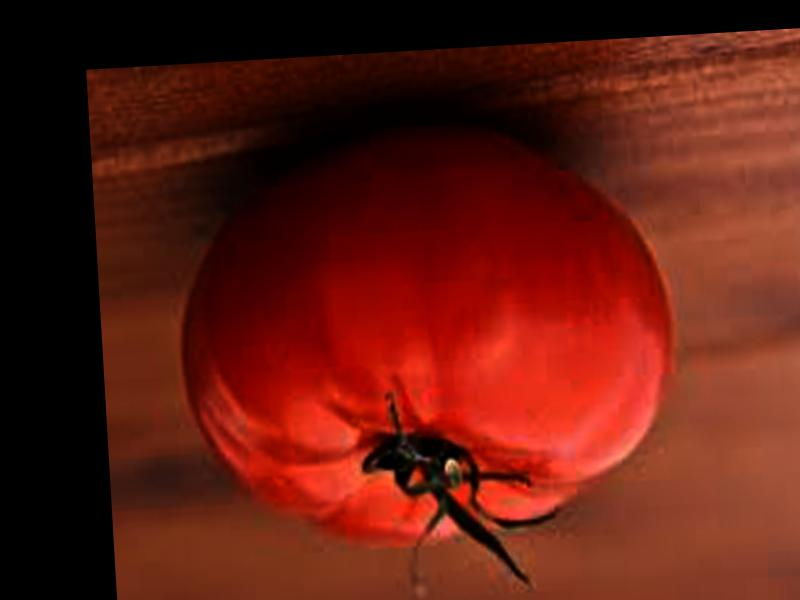Tomato: (172, 111, 687, 555)
